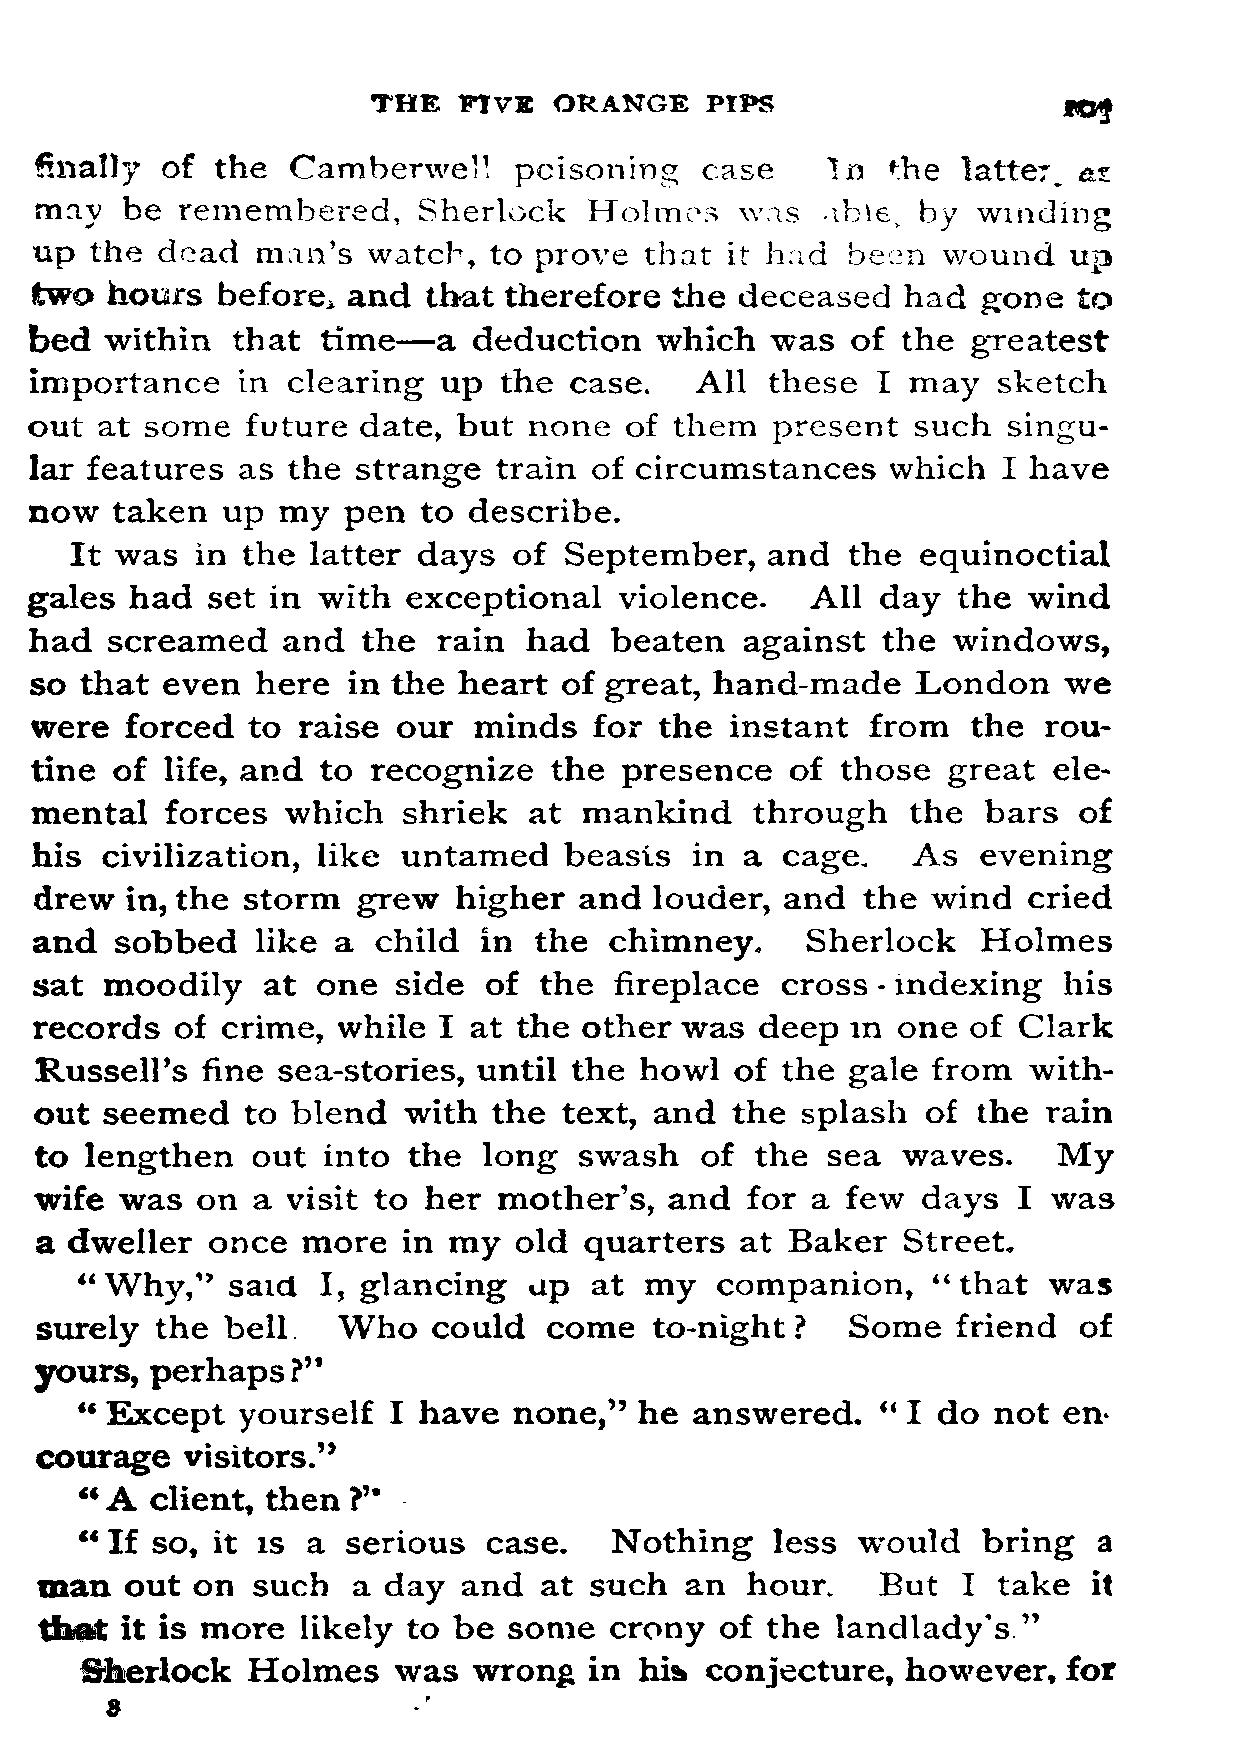content: (24, 145, 1122, 1719)
content_chapter: (356, 86, 782, 115)
content_pagenumber: (1057, 86, 1117, 126)
